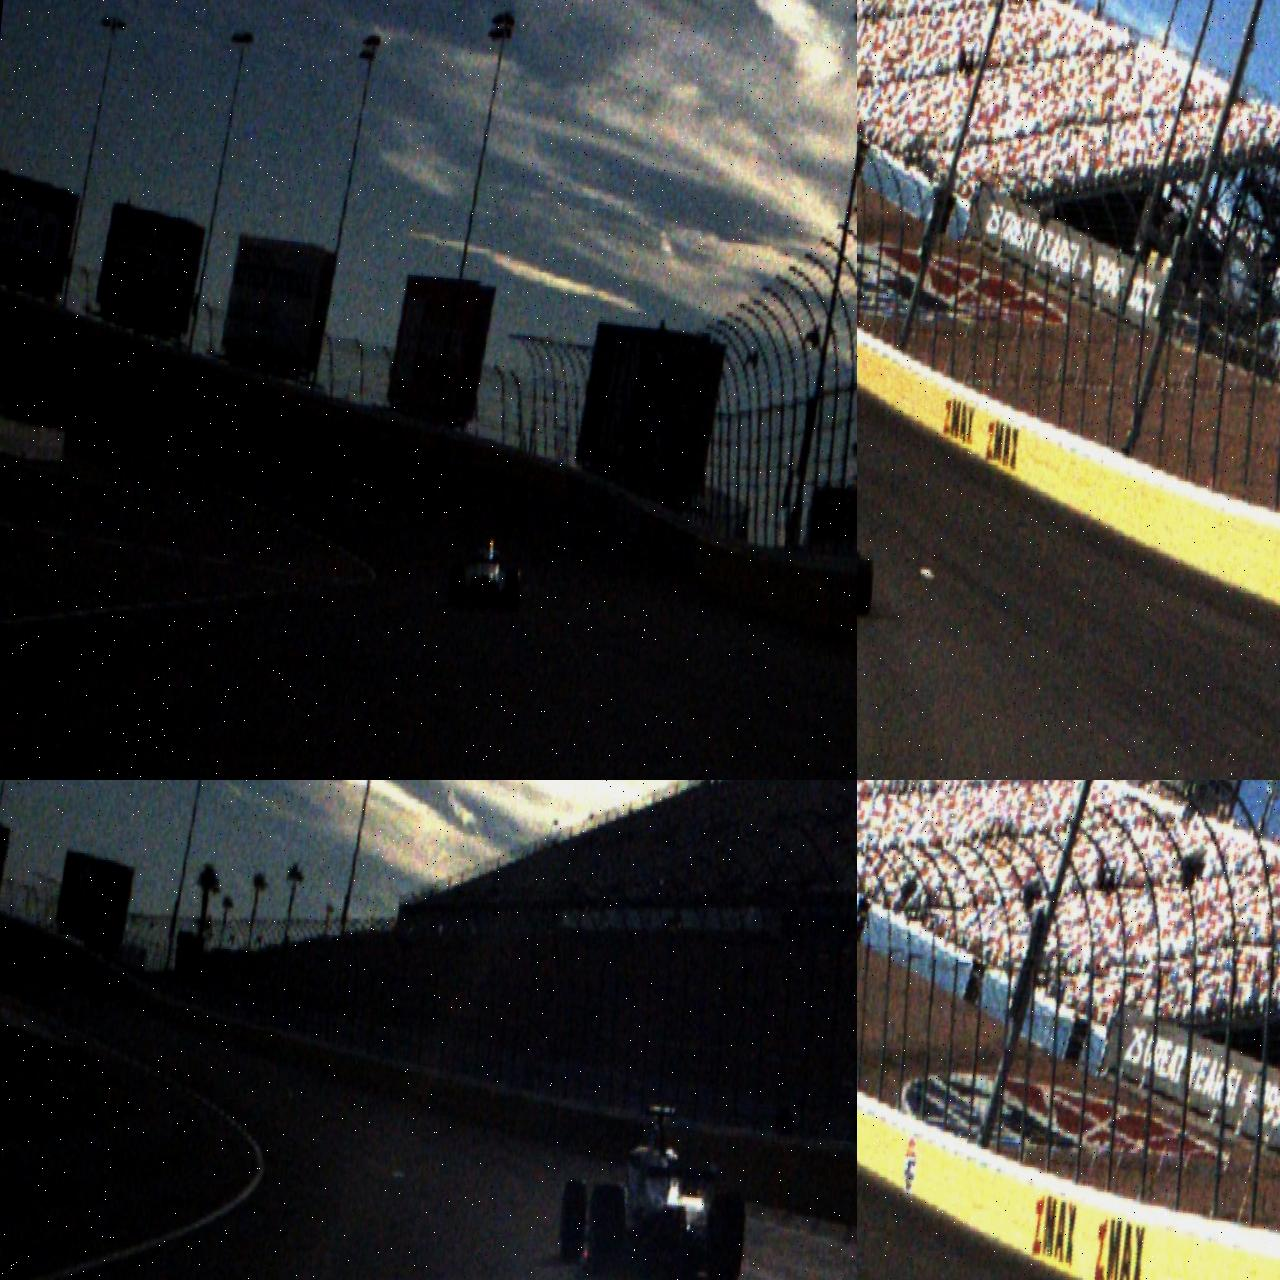AV: (555, 1096, 755, 1280), (448, 528, 525, 614), (857, 499, 880, 617)
Wheel: (700, 1192, 747, 1280), (586, 1182, 626, 1278), (556, 1177, 588, 1265), (857, 558, 874, 617), (502, 568, 522, 612), (448, 565, 466, 608)
